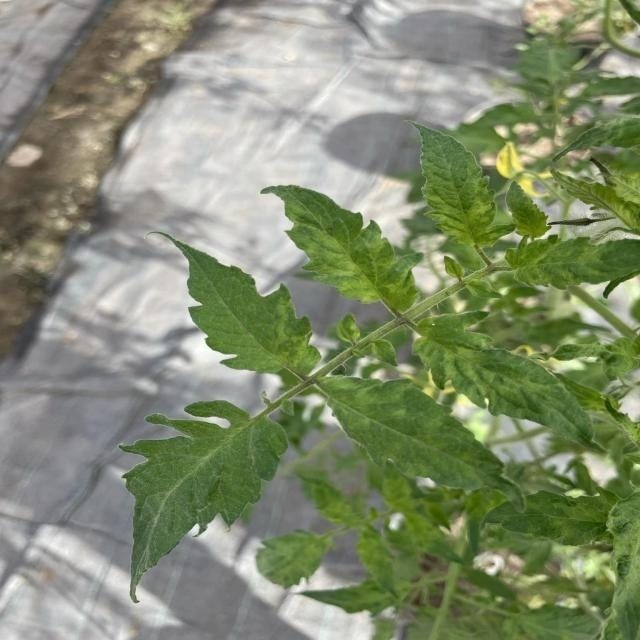T_L_R: (123, 402, 288, 598), (319, 377, 523, 500), (414, 312, 594, 447), (161, 234, 323, 377), (266, 186, 423, 315), (416, 125, 516, 260), (506, 236, 639, 290)
T_S_R: (281, 261, 511, 400)
